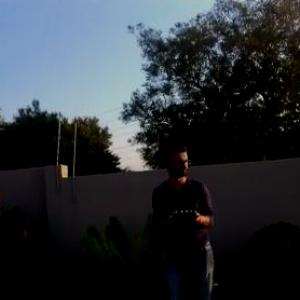follow: (149, 133, 222, 299)
